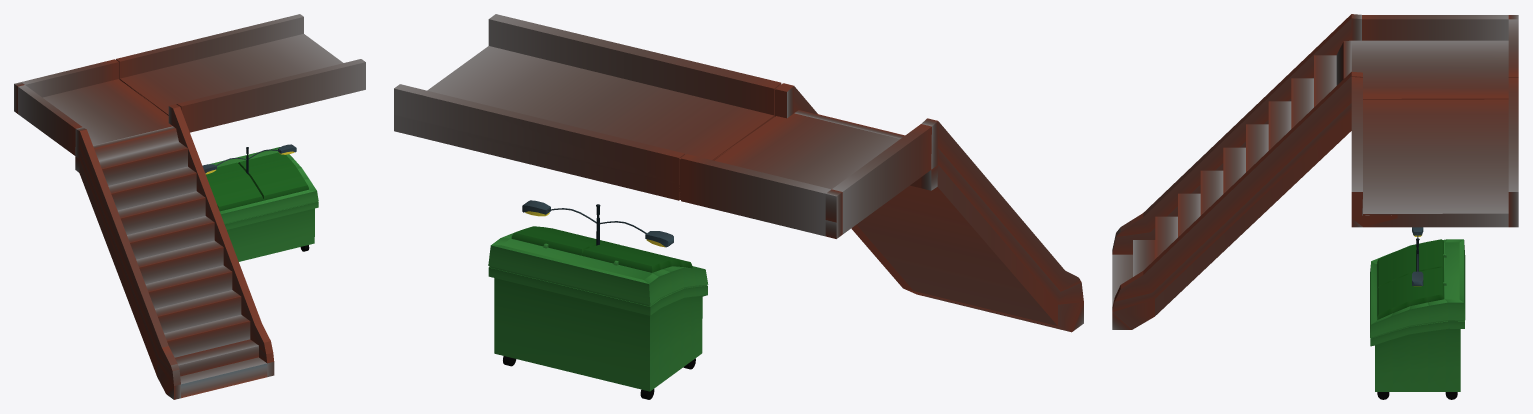
File: CidadeEstáticos.fbx
The picture shows the model from 3 angles, left to right: view 1: azimuth 30°, elevation 25°; view 2: azimuth 150°, elevation 25°; view 3: azimuth 270°, elevation 25°; orthographic projection. The views are drawn at different scales.
Parts seen in each view (by area): view 1: Passareala, ContentorDeLixo, PosteDeLuz; view 2: Passareala, ContentorDeLixo, PassarealaMeio, PosteDeLuz; view 3: Passareala, ContentorDeLixo, PassarealaMeio, PosteDeLuz.
Part boxes in pixels (x1,y1,x2,y2): Passareala: (14,14,365,399); ContentorDeLixo: (206,147,318,261); PosteDeLuz: (202,144,296,174); Passareala: (394,14,1083,332); ContentorDeLixo: (488,226,708,399); PassarealaMeio: (394,88,776,199); PosteDeLuz: (522,200,673,247); Passareala: (1112,14,1518,329); ContentorDeLixo: (1370,239,1465,399); PassarealaMeio: (1351,192,1397,226); PosteDeLuz: (1412,227,1423,285).
Bounding box in the file's own units: 625 × 417 × 605.
